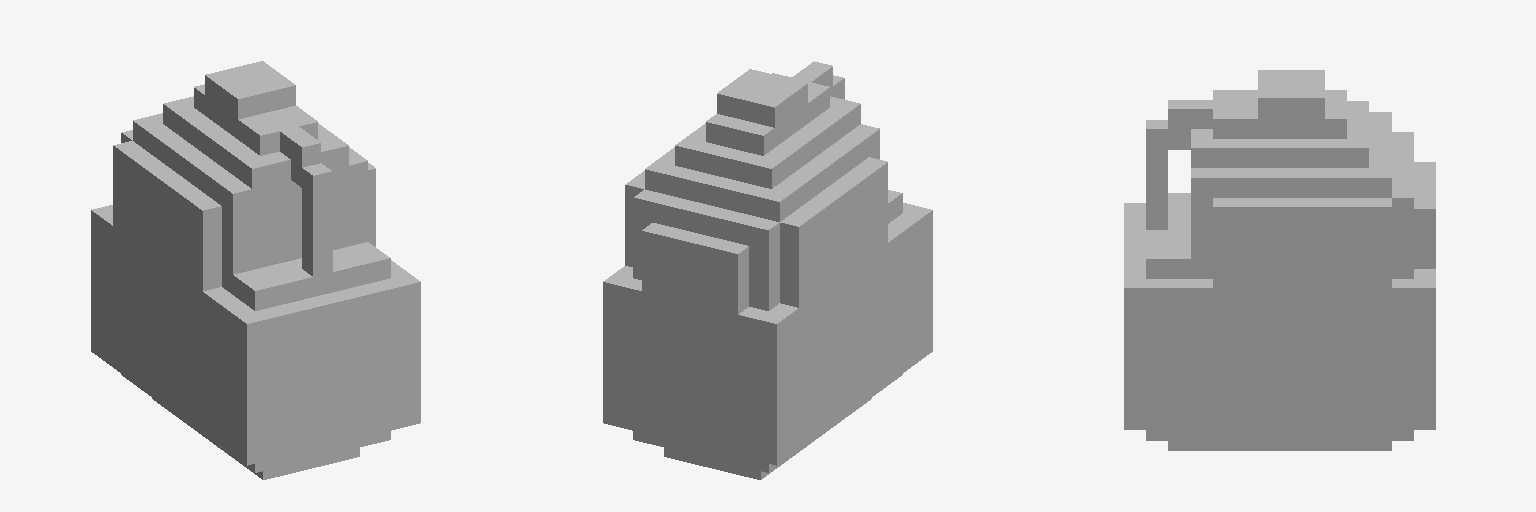
The model's file is SM_Milk_Bottle_A1_ML.obj.
3 renders of one model, left to right at view 1: azimuth 30°, elevation 25°; view 2: azimuth 150°, elevation 25°; view 3: azimuth 270°, elevation 25°, orthographic.
Parts seen in each view (by area): view 1: SM_Milk_Bottle_A1_ML; view 2: SM_Milk_Bottle_A1_ML; view 3: SM_Milk_Bottle_A1_ML.
Part boxes in pixels (x1,y1,x2,y2): SM_Milk_Bottle_A1_ML: (91,61,420,479); SM_Milk_Bottle_A1_ML: (603,61,932,479); SM_Milk_Bottle_A1_ML: (1124,70,1435,450).
Size of the model in its own units: 0.9 by 1.7 by 1.4.